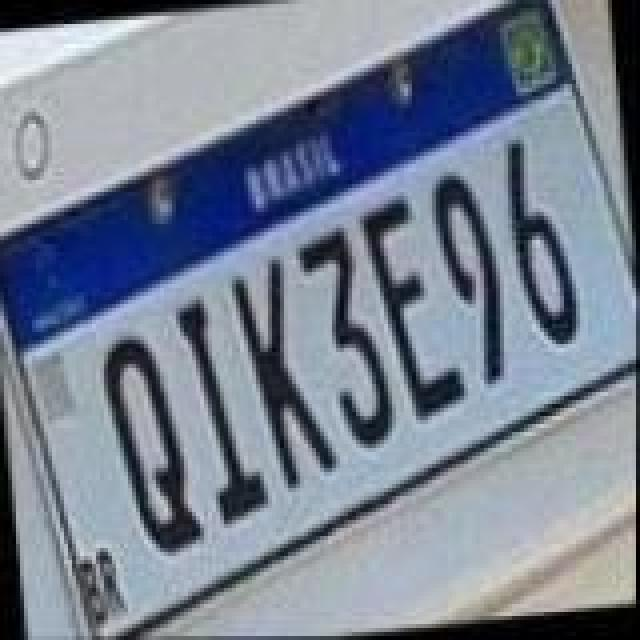3: (296, 224, 404, 460)
6: (492, 128, 588, 352)
9: (426, 166, 514, 402)
E: (356, 186, 472, 430)
I: (174, 284, 274, 532)
K: (228, 246, 344, 502)
Q: (94, 328, 210, 564)
